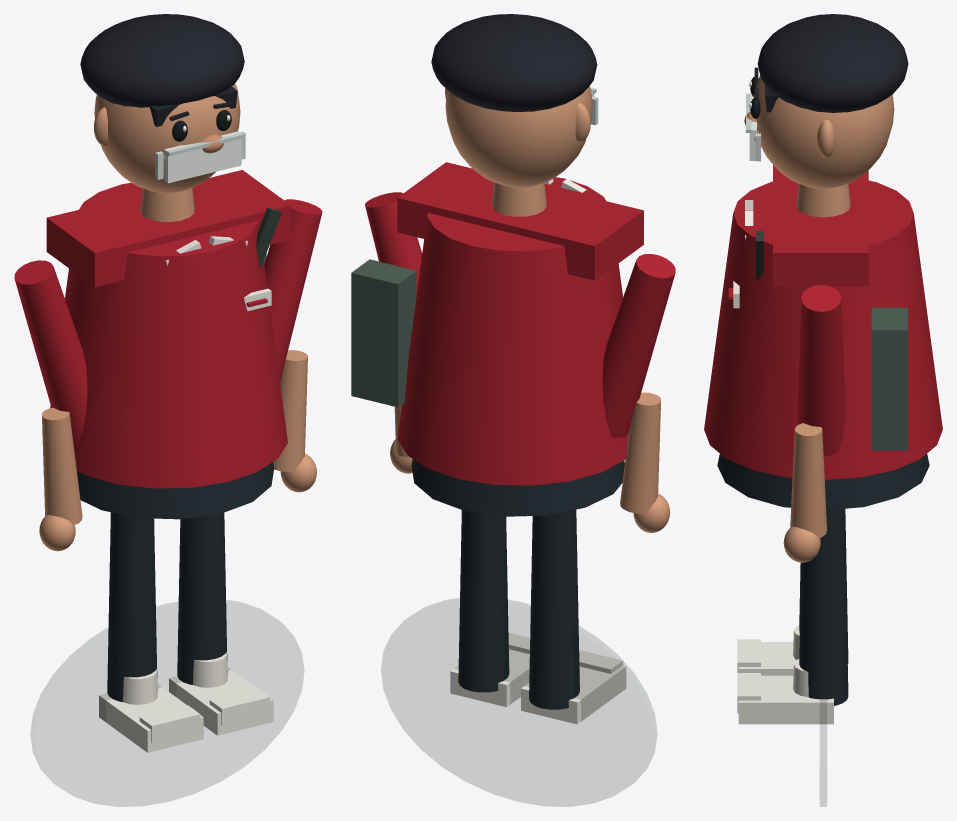
Rendered from player_male_red_mask.glb.
3 renders of one model, left to right at view 1: azimuth 30°, elevation 25°; view 2: azimuth 150°, elevation 25°; view 3: azimuth 270°, elevation 25°, orthographic. The views are drawn at different scales.
Parts seen in each view (by area): view 1: torso, contact_shadow, hair_cap, shoulder_line, leg_-0.075, leg_0.075, upper_arm_-0.235, head, hip, upper_arm_0.235, forearm_-0.235, shoe_-0.075 (+11 smaller); view 2: torso, contact_shadow, hair_cap, shoulder_line, leg_-0.075, head, leg_0.075, shoulder_bag, upper_arm_-0.235, hip, forearm_-0.235, upper_arm_0.235 (+5 smaller); view 3: torso, hair_cap, head, shoulder_line, leg_0.075, upper_arm_0.235, shoulder_bag, hip, forearm_0.235, shoe_0.075, neck, shoe_-0.075 (+6 smaller).
Boxes of the visible parts, x1,y1,x2,y2 form: torso: (50,183,287,488); contact_shadow: (31,600,303,806); hair_cap: (80,14,244,107); shoulder_line: (46,170,290,287); leg_-0.075: (107,512,157,701); leg_0.075: (177,513,227,684); upper_arm_-0.235: (14,260,87,443); head: (94,84,240,193); hip: (77,462,274,519); upper_arm_0.235: (264,199,322,381); forearm_-0.235: (42,407,82,525); shoe_-0.075: (99,683,203,752); torso: (397,177,628,485); contact_shadow: (381,598,656,806); hair_cap: (431,14,597,111); shoulder_line: (397,162,643,280); leg_-0.075: (529,509,579,709); head: (445,86,592,187); leg_0.075: (458,510,509,692); shoulder_bag: (351,259,416,407); upper_arm_-0.235: (602,254,675,438); hip: (411,459,624,516); forearm_-0.235: (620,392,660,513); upper_arm_0.235: (365,192,422,293); torso: (704,180,942,479); hair_cap: (757,14,908,112); head: (753,75,894,188); shoulder_line: (773,165,868,286); leg_0.075: (799,508,848,705); upper_arm_0.235: (797,285,845,456); shoulder_bag: (871,307,907,450); hip: (717,454,929,510); forearm_0.235: (790,423,827,537); shoe_0.075: (738,675,833,724); neck: (796,184,850,217); shoe_-0.075: (738,642,796,675).
Size of the model in its own units: 0.675 by 1.64 by 0.468.
